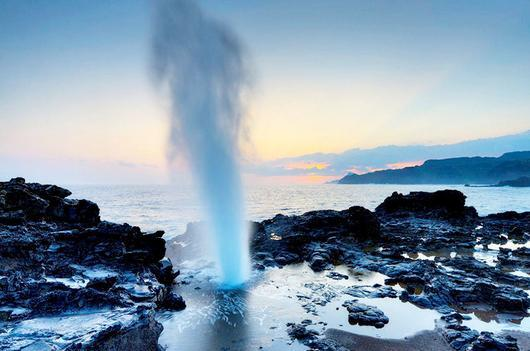mountain: (359, 149, 528, 213)
sea_river: (107, 180, 348, 207)
sky_cloud: (10, 57, 525, 140)
